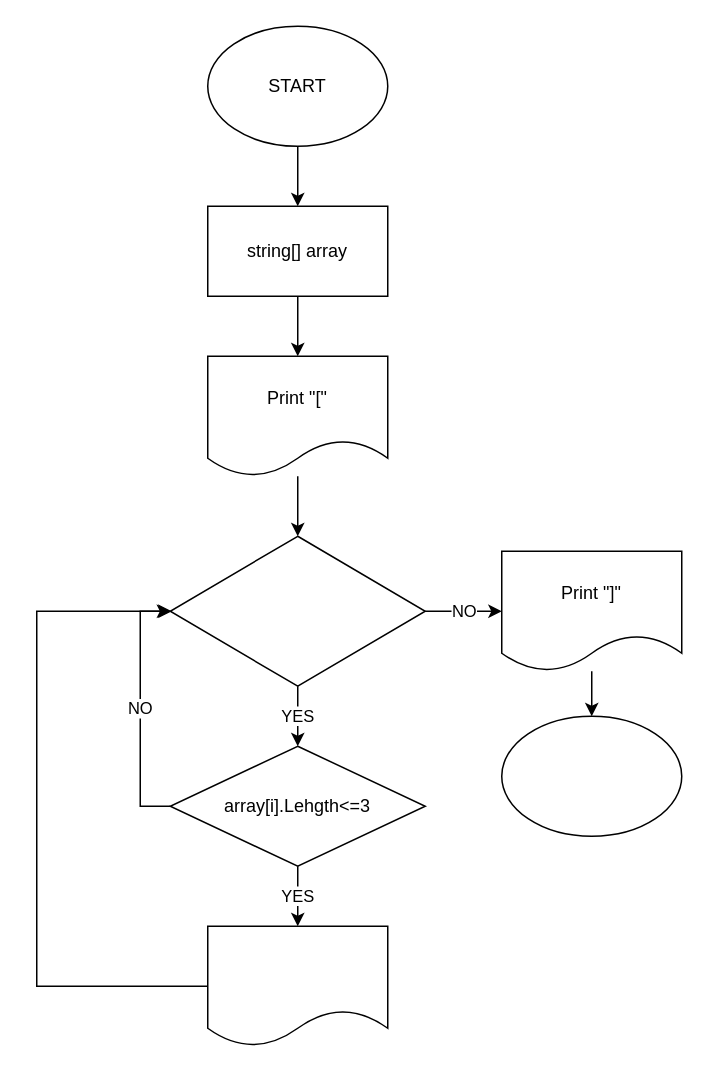
This 708x1073 diagram has some shape labels left out. The shapes that lost their labels are listed below. From the top down, each one's box as (x1, y1, x2, y2) in pixels, then its label:
(169, 535, 425, 686): int i=0; i<array.Length; i++
(500, 715, 682, 836): END
(206, 925, 388, 1046): Print "array[i], "
